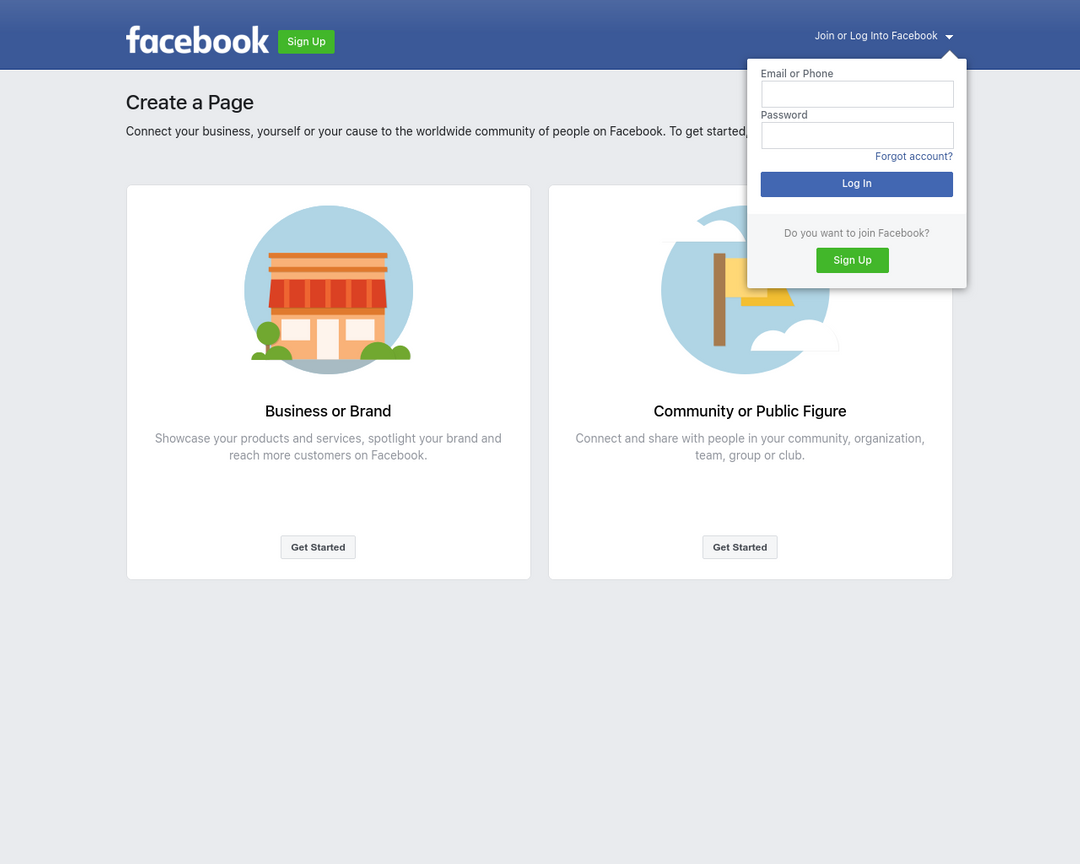Facebook: (119, 18, 273, 61)
